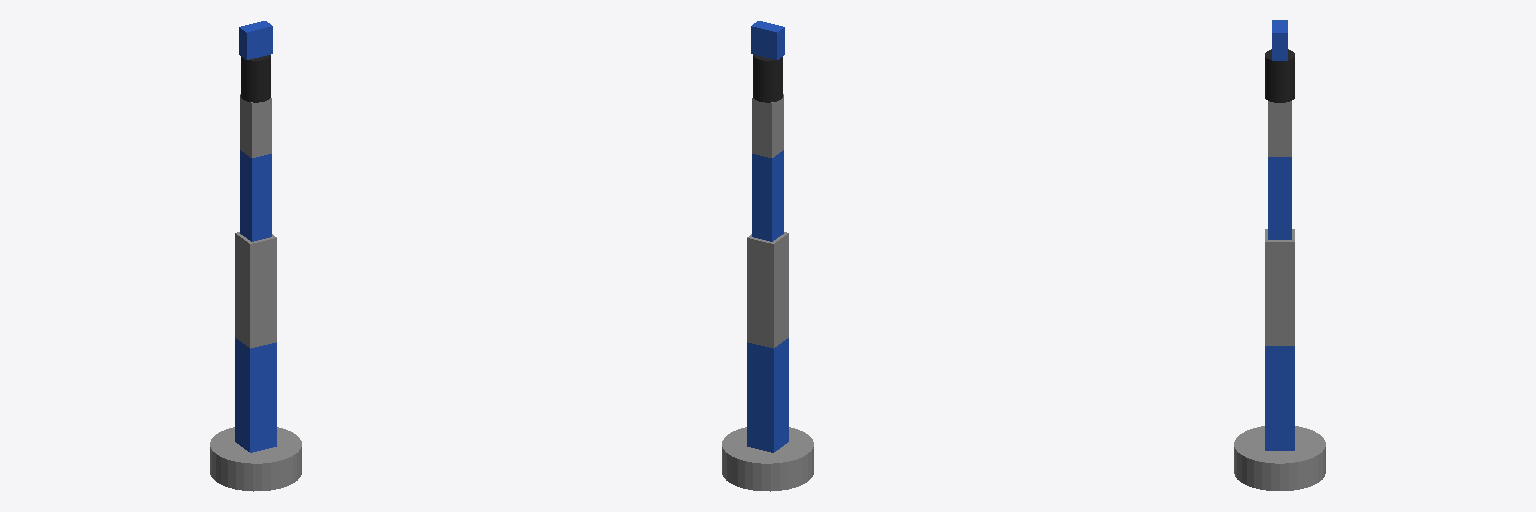
The robot description file, URDF, robot "ninni_robot_arm":
<?xml version="1.0"?>
<robot name="ninni_robot_arm">

  <material name="grey">
    <color rgba="0.6 0.6 0.6 1"/>
  </material>
  <material name="blue">
    <color rgba="0.2 0.4 0.8 1"/>
  </material>
  <material name="dark">
    <color rgba="0.2 0.2 0.2 1"/>
  </material>

  <!-- BASE NINNI -->
  <link name="base_link">
    <visual>
      <geometry>
        <cylinder radius="0.06" length="0.04"/>
      </geometry>
      <material name="grey"/>
    </visual>
  </link>

  <!-- JOINT 1 — Base rotation (yaw) -->
  <link name="link1">
    <visual>
      <origin xyz="0 0 0.075" rpy="0 0 0"/>
      <geometry>
        <box size="0.04 0.04 0.15"/>
      </geometry>
      <material name="blue"/>
    </visual>
  </link>
  <joint name="joint1" type="revolute">
    <parent link="base_link"/>
    <child link="link1"/>
    <origin xyz="0 0 0.02" rpy="0 0 0"/>
    <axis xyz="0 0 1"/>
    <limit lower="-3.14" upper="3.14" effort="10" velocity="1.0"/>
  </joint>

  <!-- JOINT 2 — Shoulder (pitch) -->
  <link name="link2">
    <visual>
      <origin xyz="0 0 0.075" rpy="0 0 0"/>
      <geometry>
        <box size="0.04 0.04 0.15"/>
      </geometry>
      <material name="grey"/>
    </visual>
  </link>
  <joint name="joint2" type="revolute">
    <parent link="link1"/>
    <child link="link2"/>
    <origin xyz="0 0 0.15" rpy="0 0 0"/>
    <axis xyz="0 1 0"/>
    <limit lower="-1.57" upper="1.57" effort="10" velocity="1.0"/>
  </joint>

  <!-- JOINT 3 — Elbow (pitch) -->
  <link name="link3">
    <visual>
      <origin xyz="0 0 0.06" rpy="0 0 0"/>
      <geometry>
        <box size="0.03 0.03 0.12"/>
      </geometry>
      <material name="blue"/>
    </visual>
  </link>
  <joint name="joint3" type="revolute">
    <parent link="link2"/>
    <child link="link3"/>
    <origin xyz="0 0 0.15" rpy="0 0 0"/>
    <axis xyz="0 1 0"/>
    <limit lower="-2.0" upper="2.0" effort="10" velocity="1.0"/>
  </joint>

  <!-- JOINT 4 — Wrist pitch -->
  <link name="link4">
    <visual>
      <origin xyz="0 0 0.04" rpy="0 0 0"/>
      <geometry>
        <box size="0.03 0.03 0.08"/>
      </geometry>
      <material name="grey"/>
    </visual>
  </link>
  <joint name="joint4" type="revolute">
    <parent link="link3"/>
    <child link="link4"/>
    <origin xyz="0 0 0.12" rpy="0 0 0"/>
    <axis xyz="0 1 0"/>
    <limit lower="-1.57" upper="1.57" effort="10" velocity="1.0"/>
  </joint>

  <!-- JOINT 5 — Wrist roll -->
  <link name="link5">
    <visual>
      <origin xyz="0 0 0.03" rpy="0 0 0"/>
      <geometry>
        <cylinder radius="0.02" length="0.06"/>
      </geometry>
      <material name="dark"/>
    </visual>
  </link>
  <joint name="joint5" type="revolute">
    <parent link="link4"/>
    <child link="link5"/>
    <origin xyz="0 0 0.08" rpy="0 0 0"/>
    <axis xyz="0 0 1"/>
    <limit lower="-3.14" upper="3.14" effort="10" velocity="1.0"/>
  </joint>

  <!-- GRIPPER (end effector) -->
  <link name="gripper_link">
    <visual>
      <origin xyz="0 0 0.02" rpy="0 0 0"/>
      <geometry>
        <box size="0.04 0.02 0.04"/>
      </geometry>
      <material name="blue"/>
    </visual>
  </link>
  <joint name="gripper_joint" type="fixed">
    <parent link="link5"/>
    <child link="gripper_link"/>
    <origin xyz="0 0 0.06" rpy="0 0 0"/>
  </joint>

</robot>

--- Render facts (derived) ---
The picture shows the robot from 3 angles, left to right: view 1: azimuth 30°, elevation 25°; view 2: azimuth 150°, elevation 25°; view 3: azimuth 270°, elevation 25°; orthographic projection.
Robot: ninni_robot_arm — 7 links, 6 joints (5 revolute, 1 fixed); root link base_link; default pose: all joints at 0.
Visible links, largest first — view 1: link2, link1, base_link, link3, link4, link5, gripper_link; view 2: link2, link1, base_link, link3, link4, link5, gripper_link; view 3: base_link, link2, link1, link3, link5, link4, gripper_link.
Boxes of the visible links, left/top/right/bottom form: link2: left=235, top=232, right=276, bottom=348; link1: left=235, top=338, right=276, bottom=452; base_link: left=210, top=427, right=301, bottom=491; link3: left=240, top=150, right=271, bottom=241; link4: left=240, top=94, right=271, bottom=157; link5: left=241, top=55, right=270, bottom=102; gripper_link: left=239, top=21, right=272, bottom=59; link2: left=747, top=232, right=788, bottom=348; link1: left=747, top=338, right=788, bottom=452; base_link: left=722, top=427, right=813, bottom=491; link3: left=752, top=150, right=783, bottom=241; link4: left=752, top=94, right=783, bottom=157; link5: left=753, top=55, right=782, bottom=102; gripper_link: left=751, top=21, right=784, bottom=59; base_link: left=1234, top=426, right=1325, bottom=490; link2: left=1265, top=229, right=1294, bottom=345; link1: left=1265, top=346, right=1294, bottom=450; link3: left=1268, top=157, right=1291, bottom=239; link5: left=1265, top=49, right=1294, bottom=102; link4: left=1268, top=101, right=1291, bottom=156; gripper_link: left=1272, top=20, right=1287, bottom=60.
Size in the robot's own frame: 0.12 by 0.12 by 0.64 metres.
Geometry: primitives only (box / cylinder / sphere), no mesh files.
